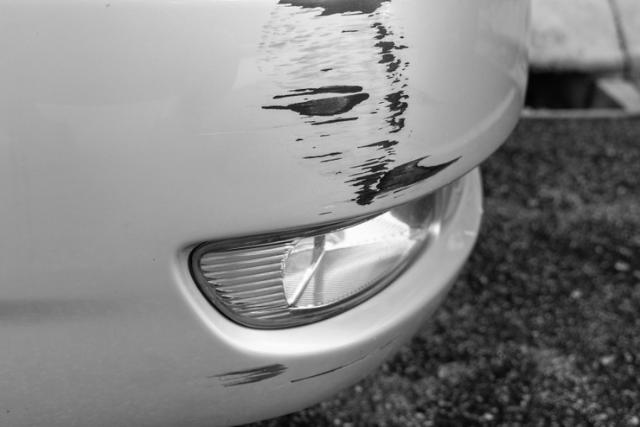Bumper: (247, 2, 459, 208)
